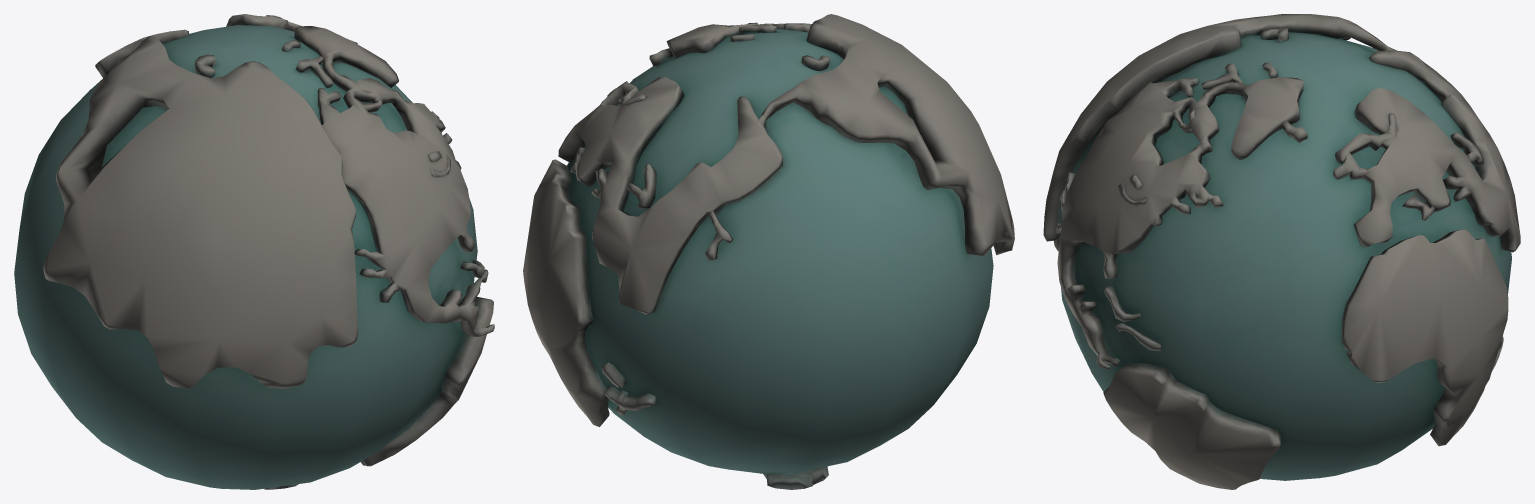
The model's file is icon-globe.glb.
3 views of the same model, side by side, from view 1: azimuth 30°, elevation 25°; view 2: azimuth 150°, elevation 25°; view 3: azimuth 270°, elevation 25° (orthographic). The views are drawn at different scales.
Parts seen in each view (by area): view 1: tripo_node_kodyurd-model-47____________________; view 2: tripo_node_kodyurd-model-47____________________; view 3: tripo_node_kodyurd-model-47____________________.
Part boxes in pixels (x1,y1,x2,y2): tripo_node_kodyurd-model-47____________________: (14, 14, 494, 489); tripo_node_kodyurd-model-47____________________: (523, 14, 1014, 489); tripo_node_kodyurd-model-47____________________: (1043, 14, 1520, 489).
Size of the model in its own units: 0.9941 by 0.9746 by 0.998.
1 material, 1 textured.
